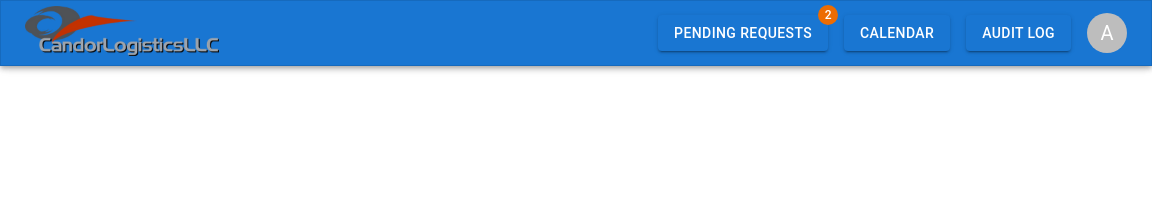
Test: settings menu › Admin user sees Admin Page option in user menu
Click the button named "user menu" at coordinates (1107, 33), box [1087,13,1127,53]
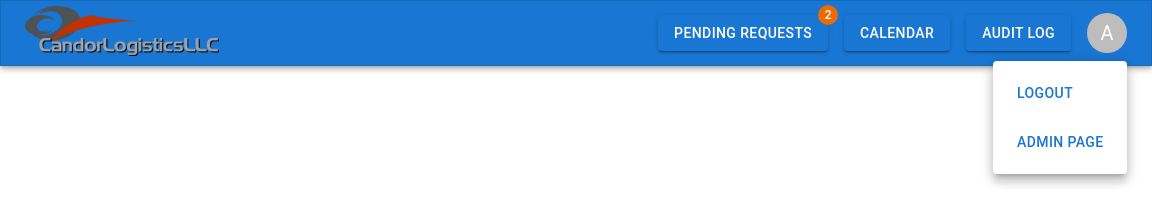
Expected: the link "Admin Page" is shown, [1017,134,1104,150]
